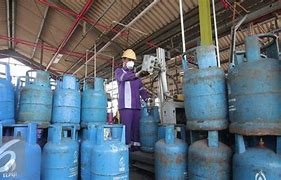blue_gas: (231, 34, 281, 135), (182, 46, 229, 130), (83, 125, 130, 180), (1, 124, 41, 180), (233, 134, 281, 180), (188, 130, 233, 179), (42, 124, 80, 180), (17, 69, 52, 123), (154, 125, 187, 180), (54, 74, 82, 125), (81, 76, 106, 125), (138, 107, 161, 152), (1, 62, 16, 125)
